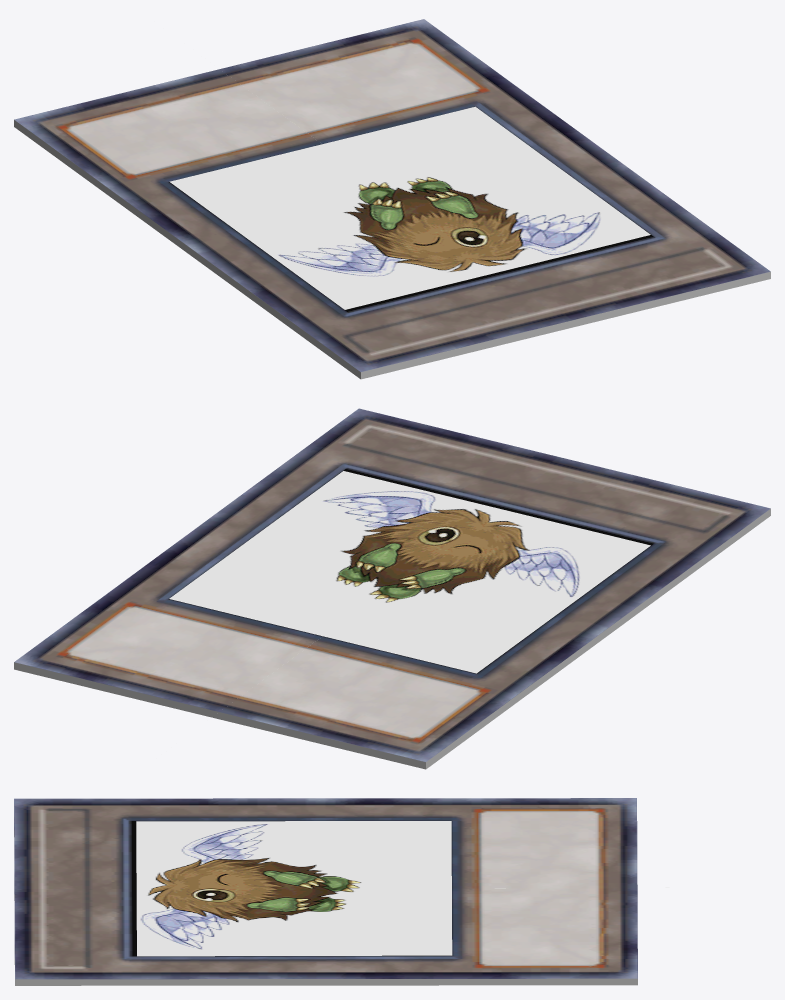
File: board-lod0.glb
3 views of the same model, one above another, from view 1: azimuth 30°, elevation 25°; view 2: azimuth 150°, elevation 25°; view 3: azimuth 270°, elevation 25° (orthographic). The views are drawn at different scales.
Visible parts, largest first — view 1: CardModel_front, MonsterPlane, CardModel_side; view 2: CardModel_front, MonsterPlane, CardModel_side; view 3: CardModel_front, MonsterPlane, CardModel_side.
Part boxes in pixels (x1,y1,x2,y2): CardModel_front: (14, 19, 770, 371); MonsterPlane: (169, 106, 650, 309); CardModel_side: (14, 120, 770, 379); CardModel_front: (14, 408, 770, 761); MonsterPlane: (169, 471, 650, 673); CardModel_side: (14, 508, 770, 769); CardModel_front: (14, 798, 637, 979); MonsterPlane: (136, 821, 669, 956); CardModel_side: (14, 831, 637, 985).
Bounding box in the file's own units: 1.41 × 0.0263 × 2.49.
4 materials, 3 textured.
